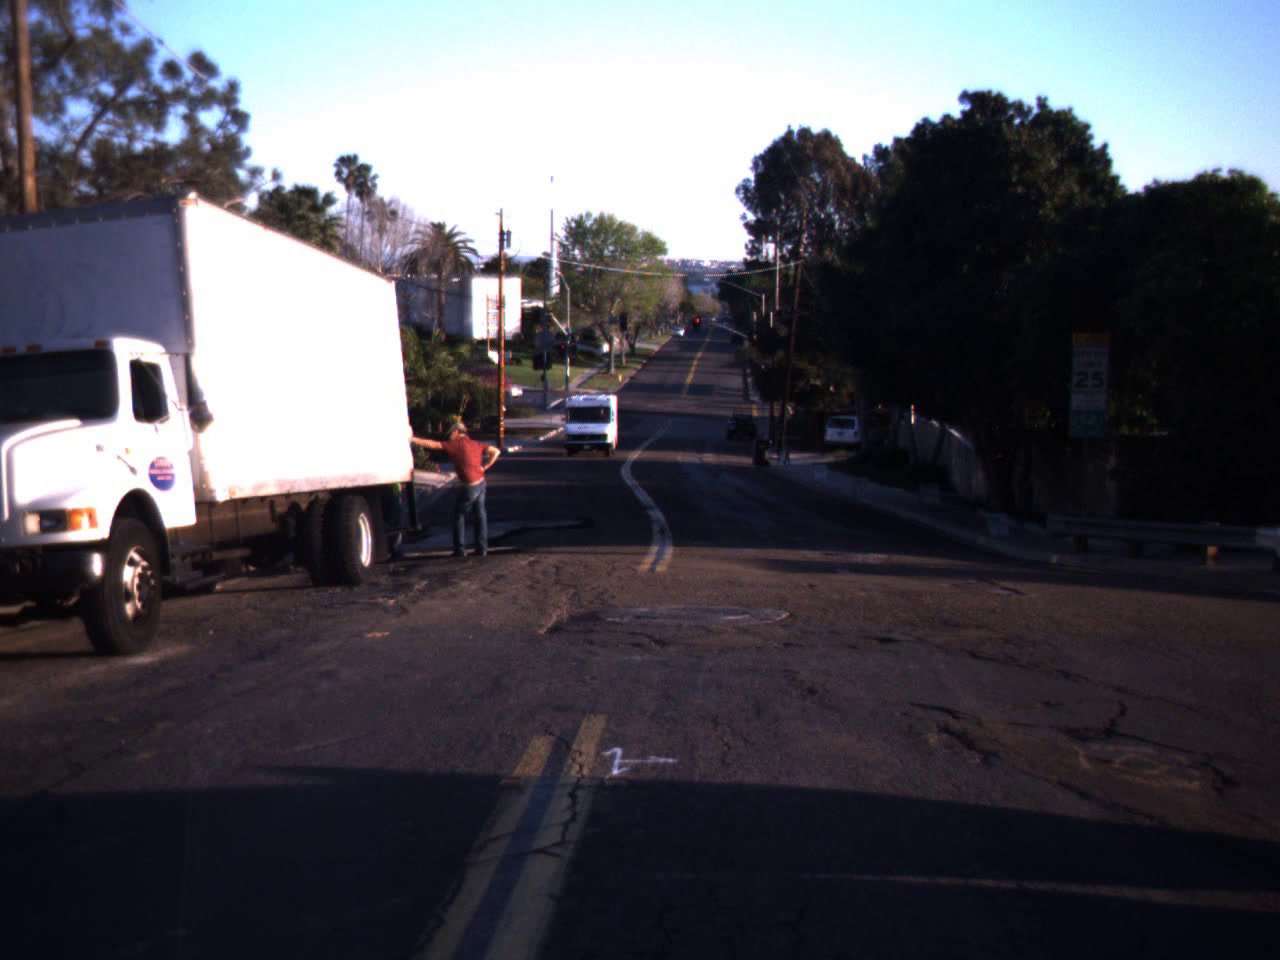stop: (555, 342, 570, 360)
